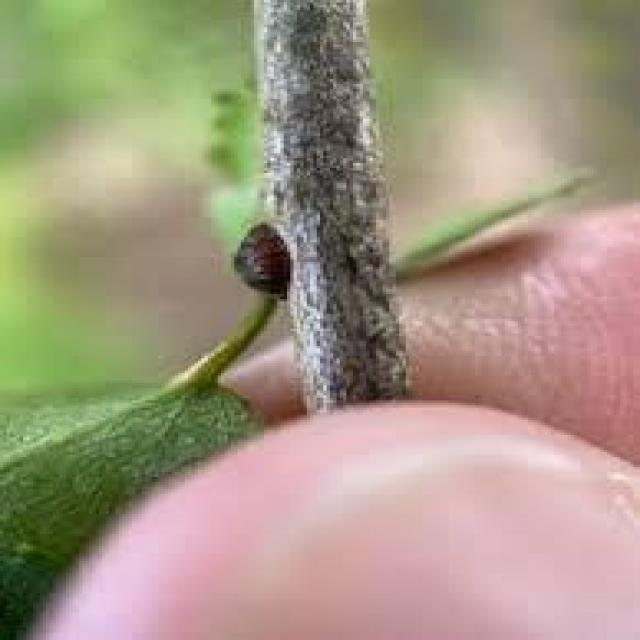BlackScale: (233, 220, 289, 299)
